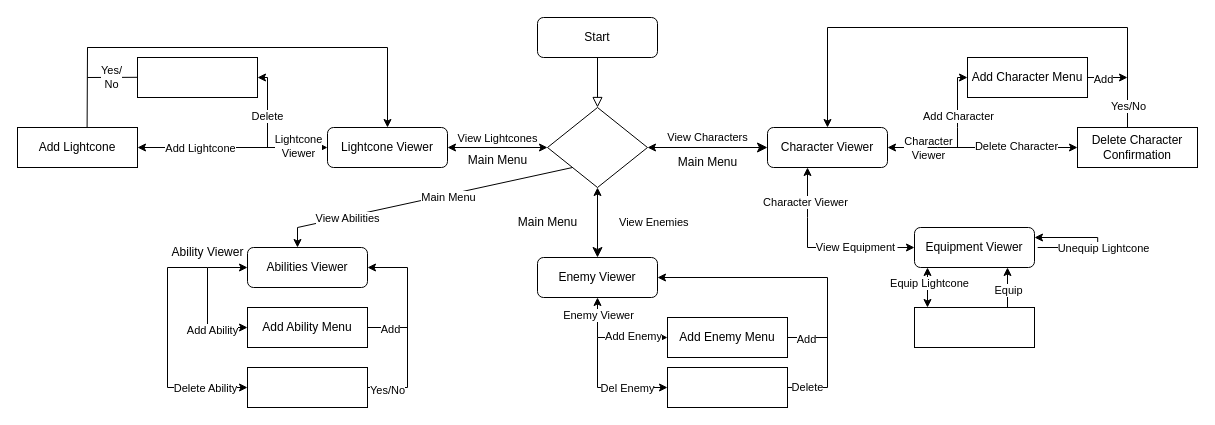
This 1215x425 diagram has some shape labels left out. Here are the shapes that lost their labels. From the top down, the centre of each, then its label:
At (197,77): "Delete Lightcone Confirmation".
At (597,147): "Menu".
At (974,327): "Select Lightcone Menu".
At (307,387): "Delete Ability Confirmation".
At (727,387): "Delete Enemy Confirmation".
